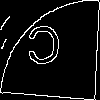C: (25, 24, 62, 75)
